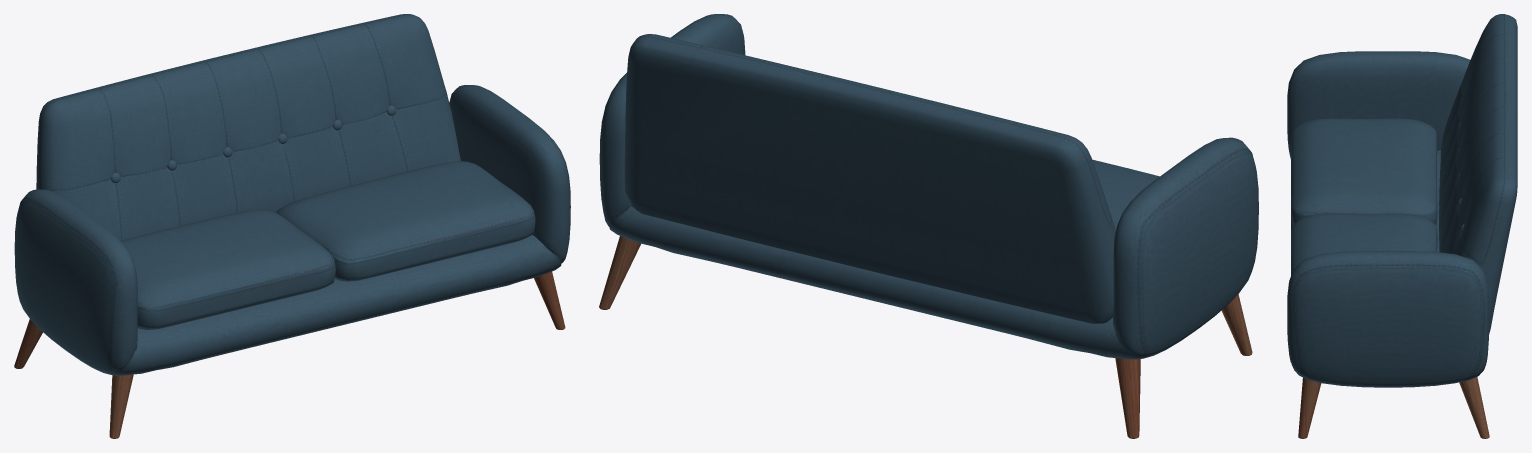
File: modern-sofa.glb
3 views of the same model, side by side, from view 1: azimuth 30°, elevation 25°; view 2: azimuth 150°, elevation 25°; view 3: azimuth 270°, elevation 25° (orthographic). The views are drawn at different scales.
Visible parts, largest first — view 1: Sofa_lambert1_0; view 2: Sofa_lambert1_0; view 3: Sofa_lambert1_0.
Part boxes in pixels (x1,y1,x2,y2): Sofa_lambert1_0: (14,14,570,438); Sofa_lambert1_0: (599,14,1258,438); Sofa_lambert1_0: (1287,14,1517,438).
Size of the model in its own units: 2.21 by 1.12 by 0.979.
Materials: 1 (1 with a texture image).
